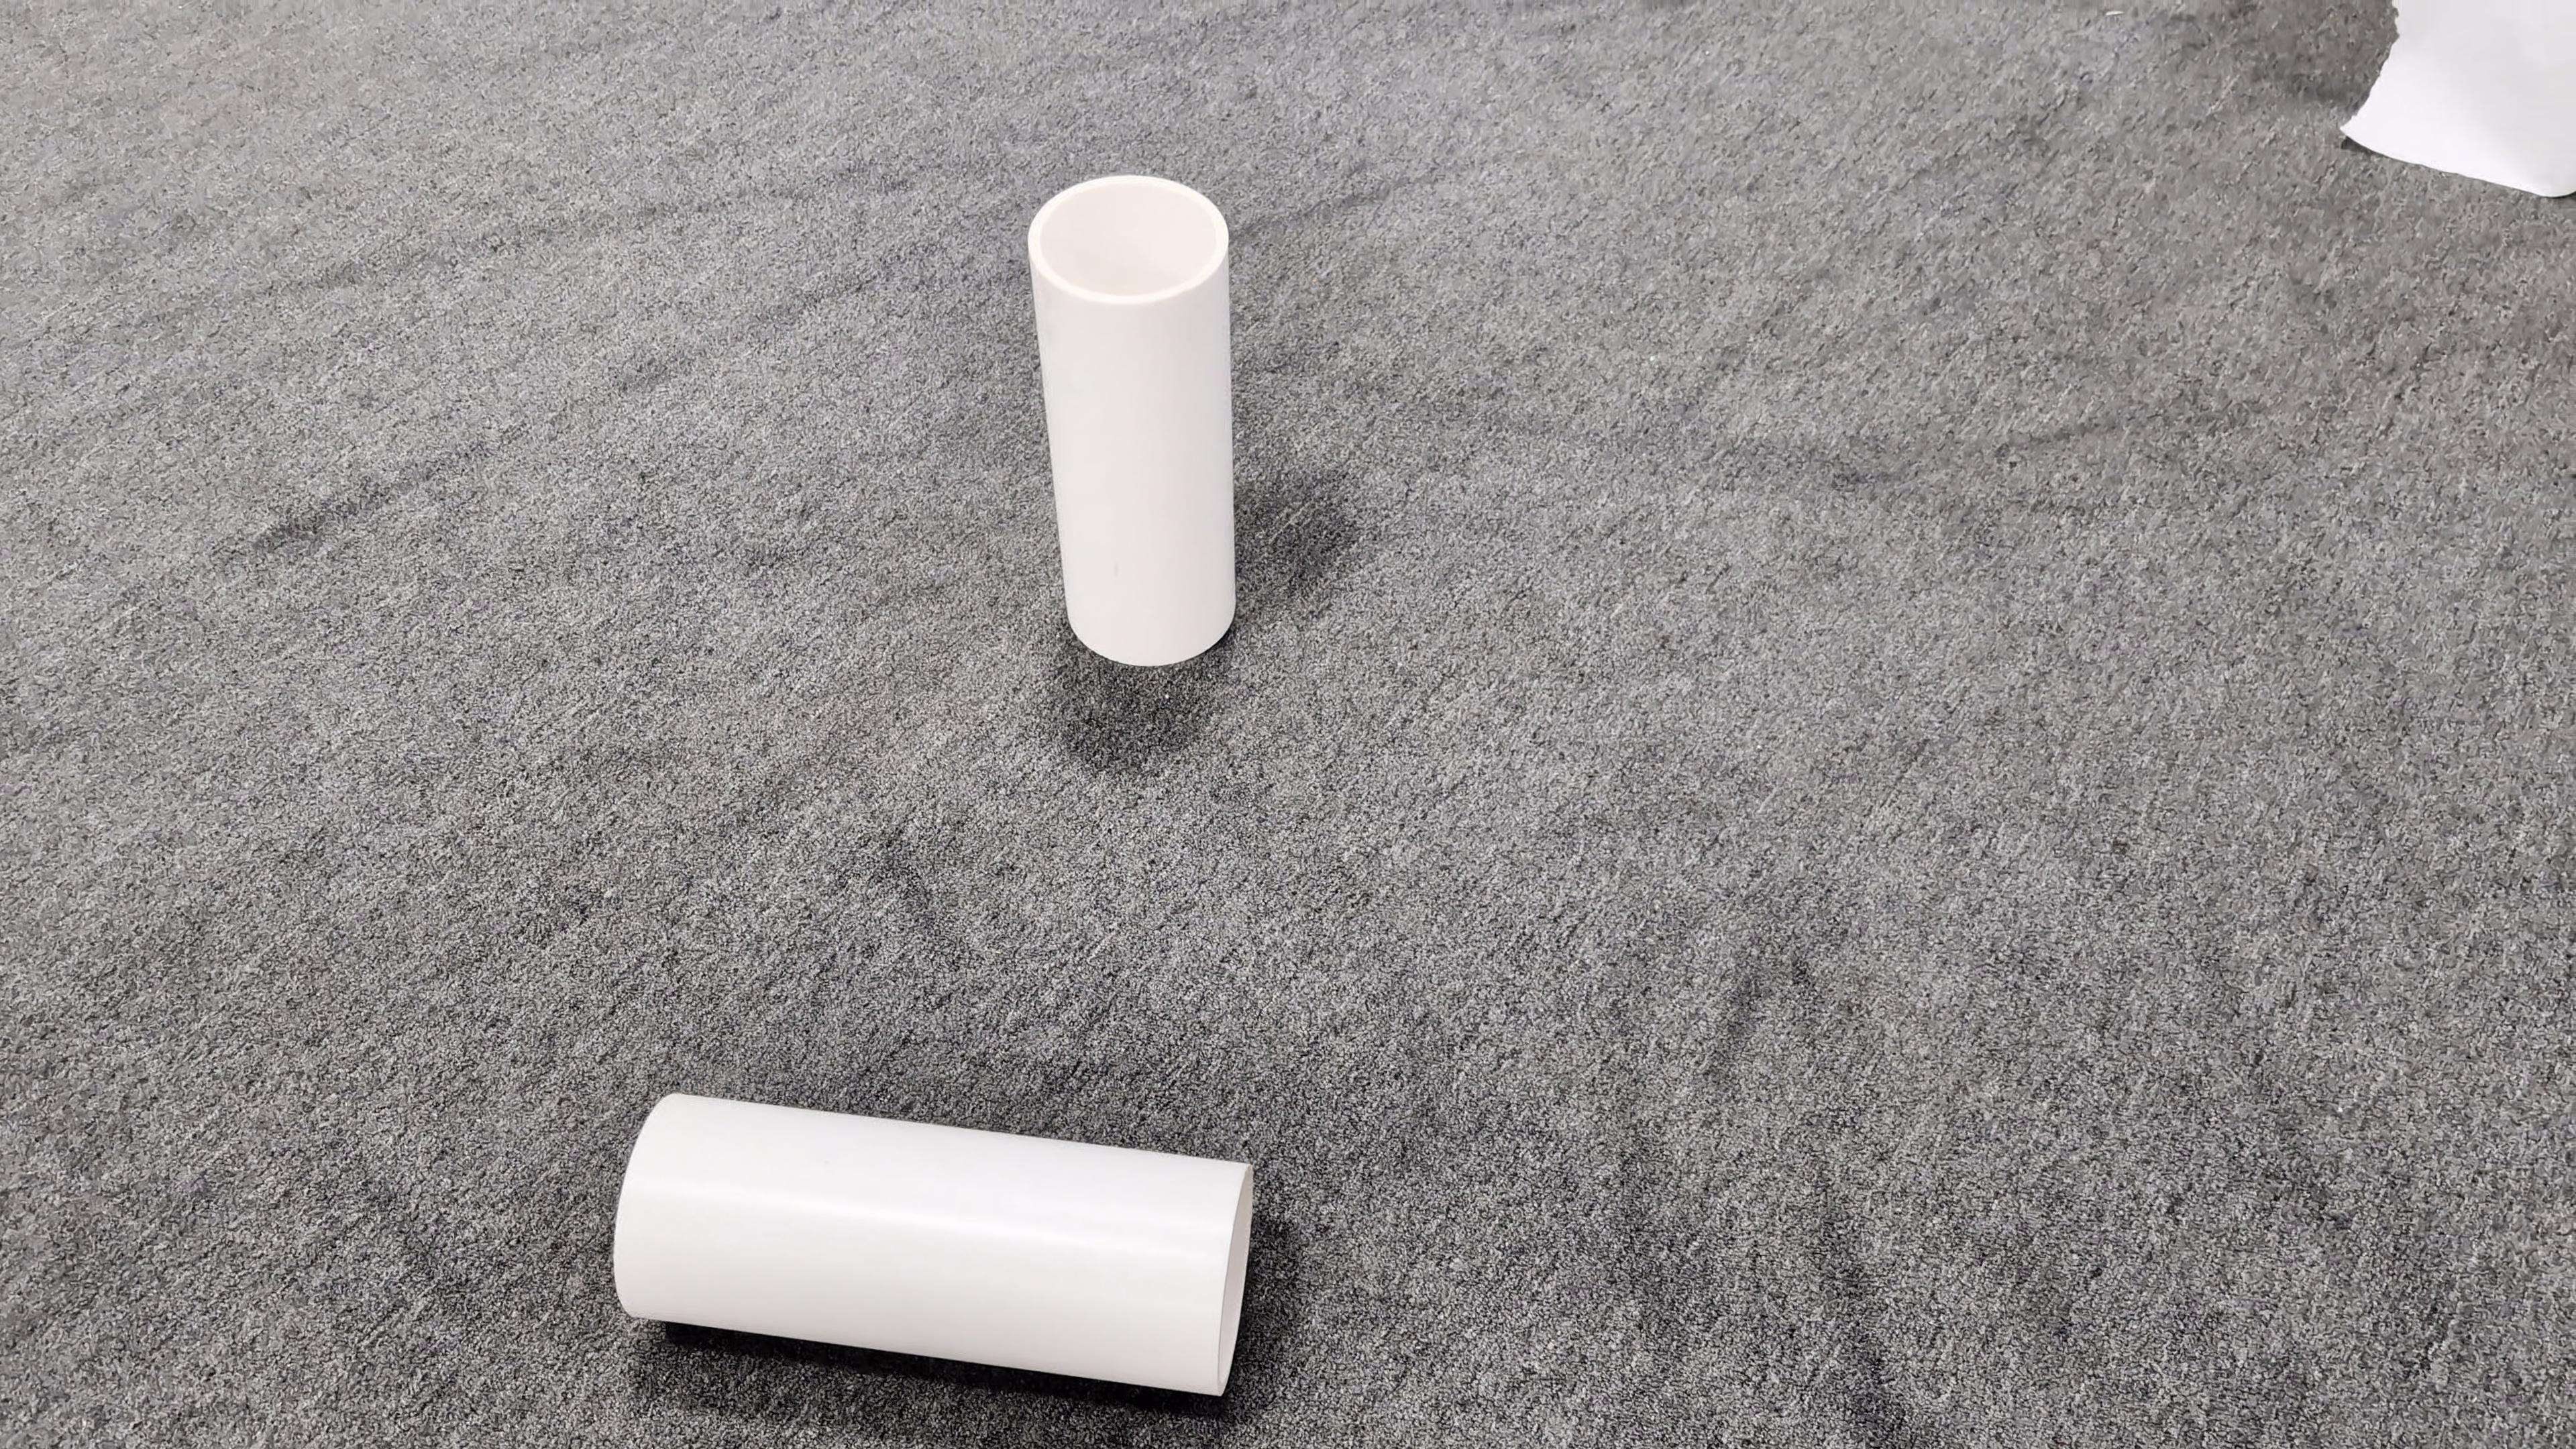coral: (610, 1088, 1256, 1396), (1024, 173, 1240, 663)
